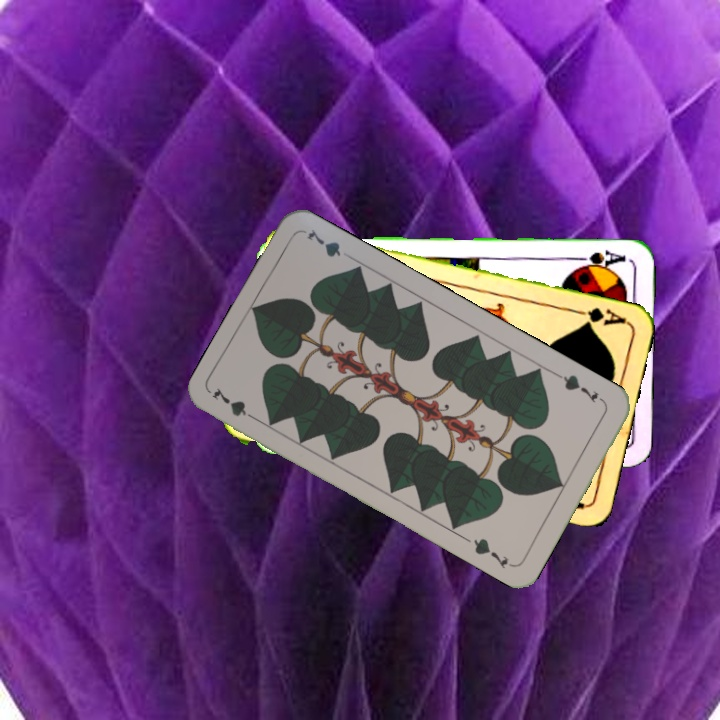G7: (208, 384, 263, 425), (553, 370, 608, 406)
GA: (571, 303, 629, 329)
SA: (570, 246, 629, 273)
